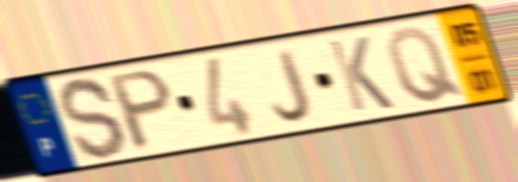4: (205, 52, 256, 139)
J: (270, 45, 314, 125)
K: (324, 34, 398, 115)
P: (106, 65, 176, 156)
Q: (383, 24, 468, 107)
S: (55, 74, 131, 163)
